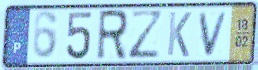5: (66, 10, 94, 62)
6: (32, 8, 60, 64)
K: (165, 10, 193, 59)
R: (94, 9, 129, 63)
V: (198, 10, 231, 58)
Z: (127, 9, 166, 62)
